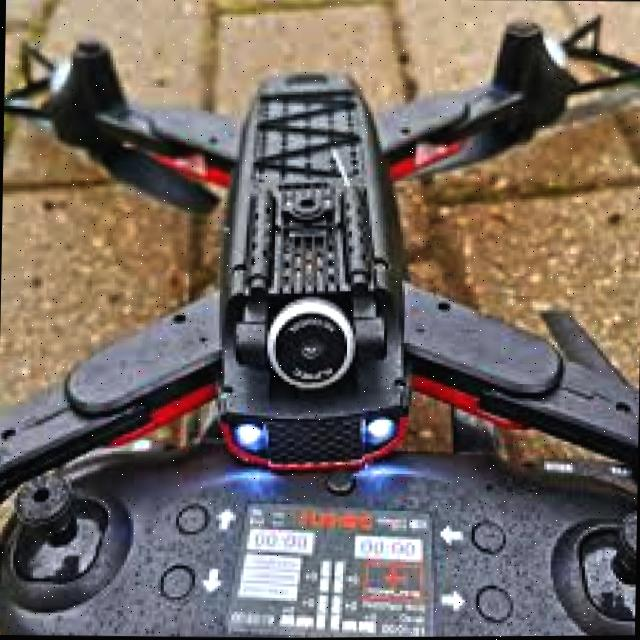drone: (0, 12, 640, 506)
